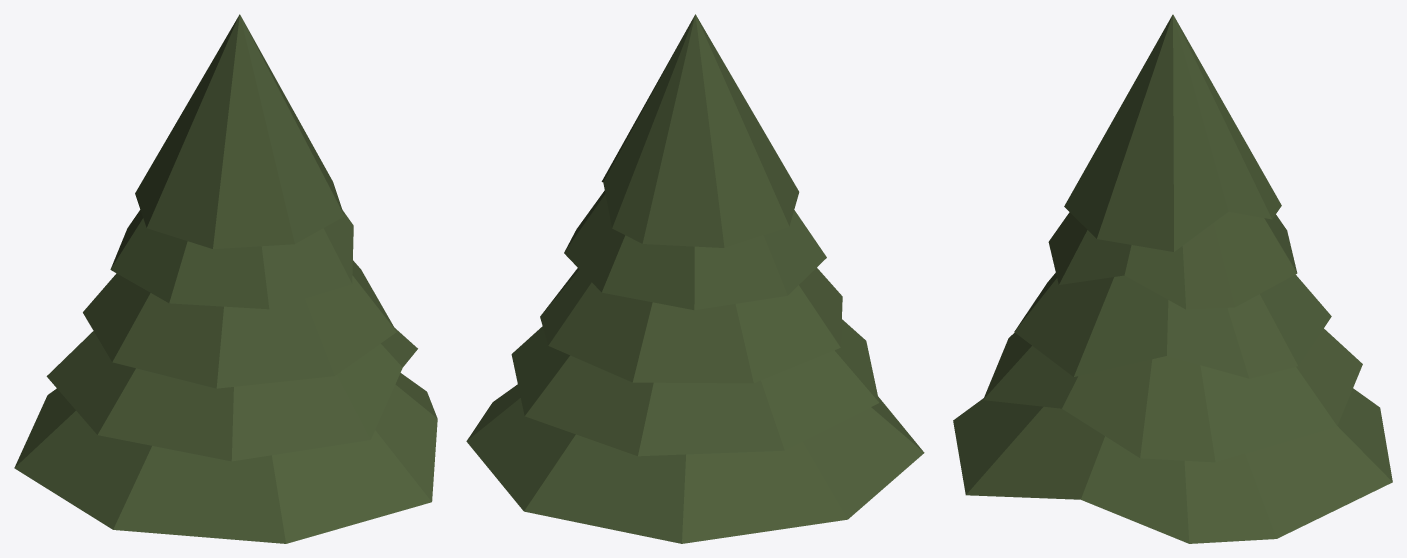
File: CONIFEROUSleaves3CF1-1-GO.fbx
The picture shows the model from 3 angles, left to right: view 1: azimuth 30°, elevation 25°; view 2: azimuth 150°, elevation 25°; view 3: azimuth 270°, elevation 25°; orthographic projection.
Visible parts, largest first — view 1: Cylinder.013; view 2: Cylinder.013; view 3: Cylinder.013.
Part boxes in pixels (x1=…): Cylinder.013: x1=14, y1=14, x2=437, y2=543; Cylinder.013: x1=466, y1=14, x2=924, y2=543; Cylinder.013: x1=953, y1=14, x2=1392, y2=543.
Bounding box in the file's own units: 347 × 375 × 341.
